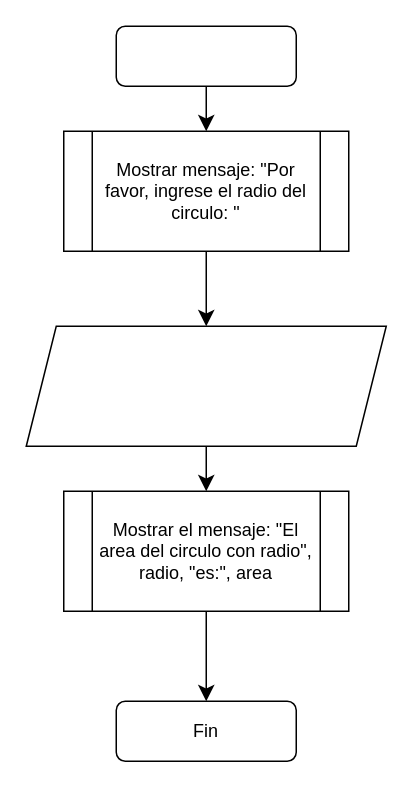
The diagram is 413 pixels wide and 788 high, and some of its shapes have lost their labels. Here are the shapes that lost their labels. From the top down, the centre of each, then its label:
At point 205,55: "Inicio".
At point 205,385: "Definir y asiganar a la variable area el resultado de π * radio^2".
